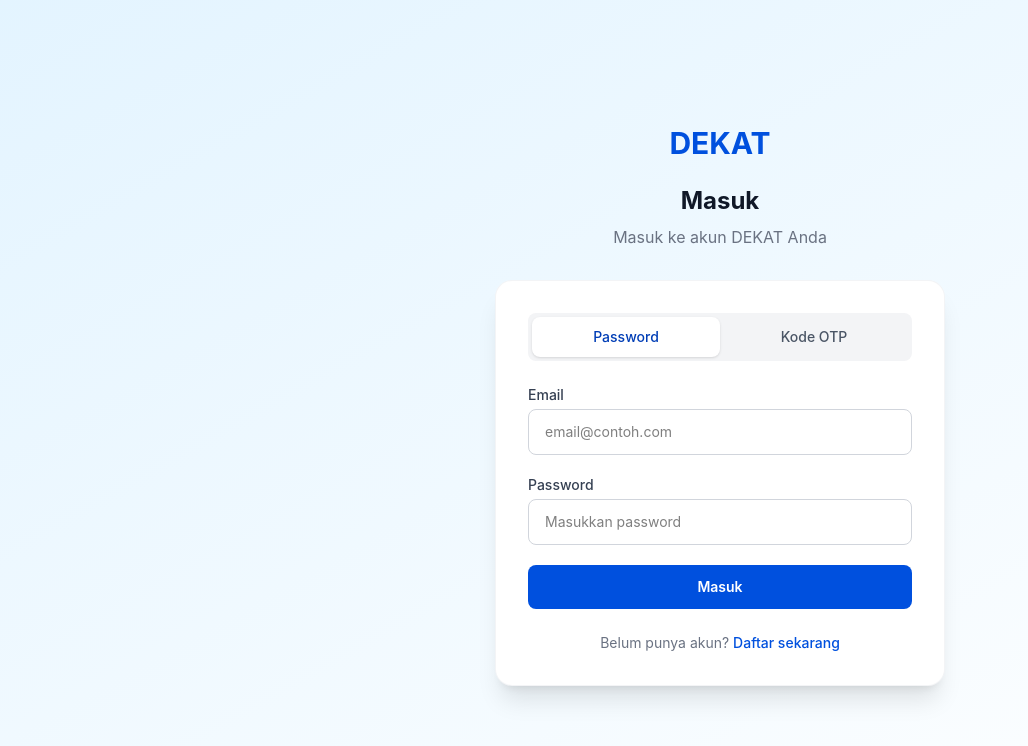
Test case: LoginPage › validates empty email on password submit
Click the button "Masuk".
click(720, 587)  # box [528, 565, 912, 609]
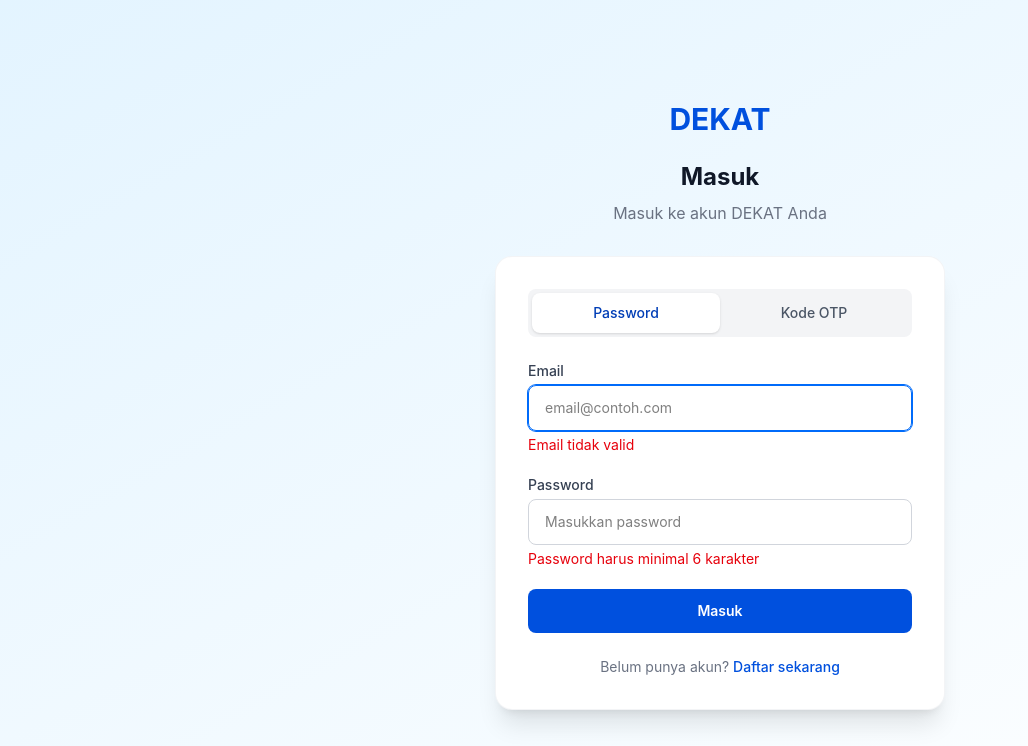
Check: the text "Email tidak valid" is shown, box [528, 436, 634, 453]
